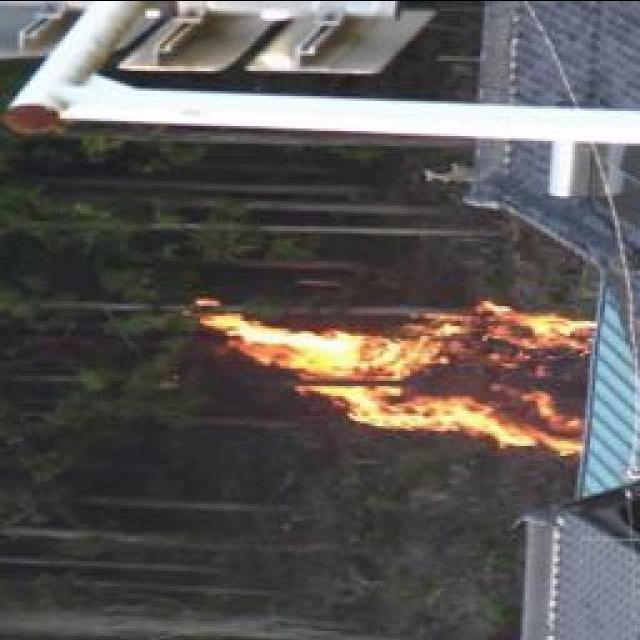Fire: (194, 297, 594, 449)
